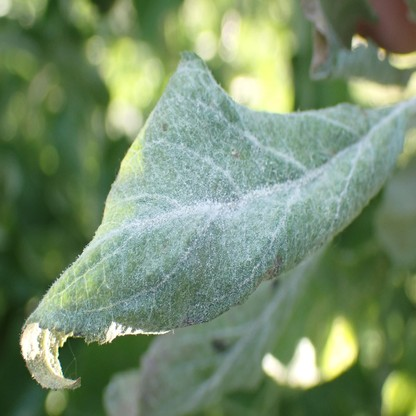powder: (20, 52, 410, 388)
